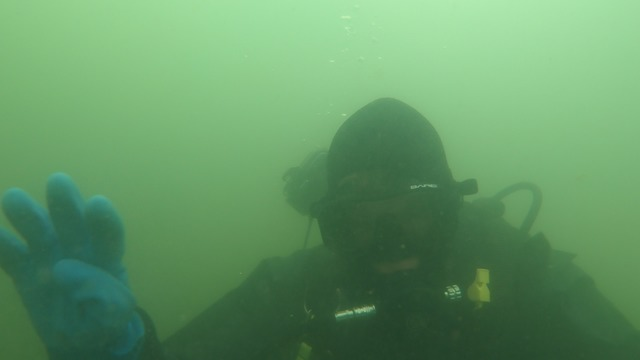Diver: (2, 95, 639, 358)
Hand: (5, 177, 138, 350)
Head: (303, 92, 498, 310)
